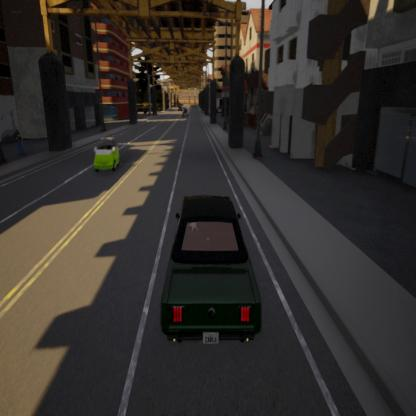Cars: (152, 190, 264, 358), (89, 130, 125, 178), (182, 102, 189, 119), (176, 98, 183, 112)
Pedestrian: (13, 125, 27, 163)
